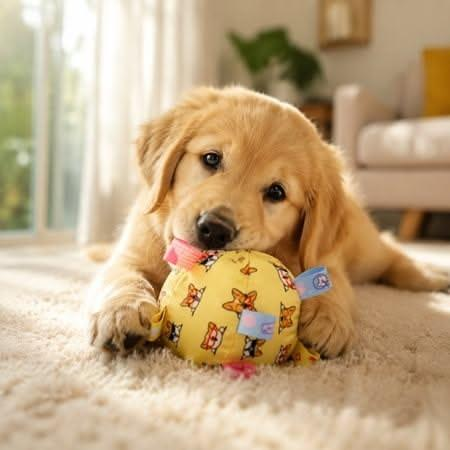puppy-dog: (85, 86, 450, 361)
